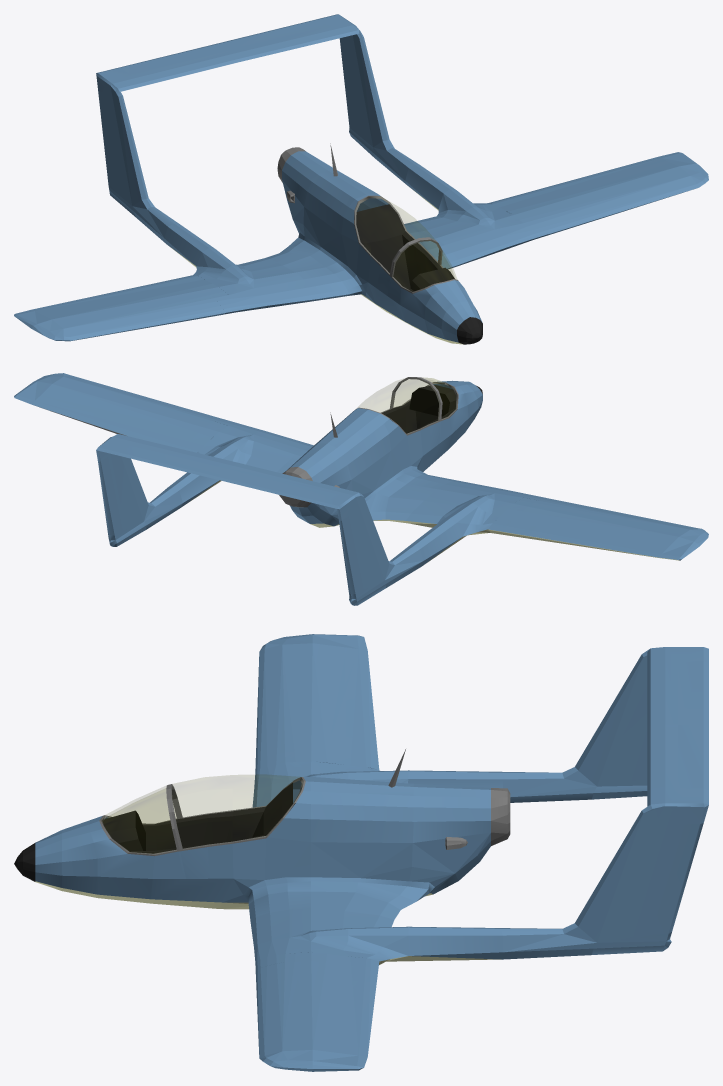
Rendered from aircraft_5_with_control_surfaces.glb.
3 views of the same model, one above another, from view 1: azimuth 30°, elevation 25°; view 2: azimuth 150°, elevation 25°; view 3: azimuth 270°, elevation 25° (orthographic). The views are drawn at different scales.
Parts seen in each view (by area): view 1: fuselage, outer wing left, outer wing right, elevator, left aileron, canopy, right aileron, rudder right, rudder left, instrument panel; view 2: fuselage, outer wing left, outer wing right, elevator, right aileron, left aileron, instrument panel, rudder left, rudder right, canopy; view 3: fuselage, outer wing right, outer wing left, canopy, elevator, right aileron, rudder left, left aileron, instrument panel.
Part boxes in pixels (x1,y1,x2,y2): fuselage: (96,14,548,344); outer wing left: (488,152,708,235); outer wing right: (14,275,228,341); elevator: (119,20,325,74); left aileron: (529,155,672,196); canopy: (354,195,439,275); right aileron: (26,283,165,314); rudder right: (98,90,114,185); rudder left: (339,37,355,127); instrument panel: (410,267,454,291); fuselage: (96,377,545,605); outer wing left: (14,373,228,452); outer wing right: (488,497,708,560); elevator: (118,446,325,503); right aileron: (529,524,671,558); left aileron: (26,395,165,442); instrument panel: (409,385,456,416); rudder left: (98,457,122,535); rudder right: (339,516,363,594); canopy: (358,377,441,435); fuselage: (14,647,708,970); outer wing right: (255,634,379,769); outer wing left: (255,952,379,1071); canopy: (168,775,305,849); elevator: (678,661,708,790); right aileron: (345,644,376,741); rudder left: (648,823,703,934); left aileron: (345,979,376,1060); instrument panel: (102,810,145,851).
Bounding box in the file's own units: 13.53 × 2.62 × 9.16.
